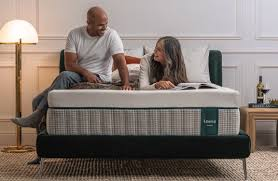bed-matress: (46, 79, 240, 137)
